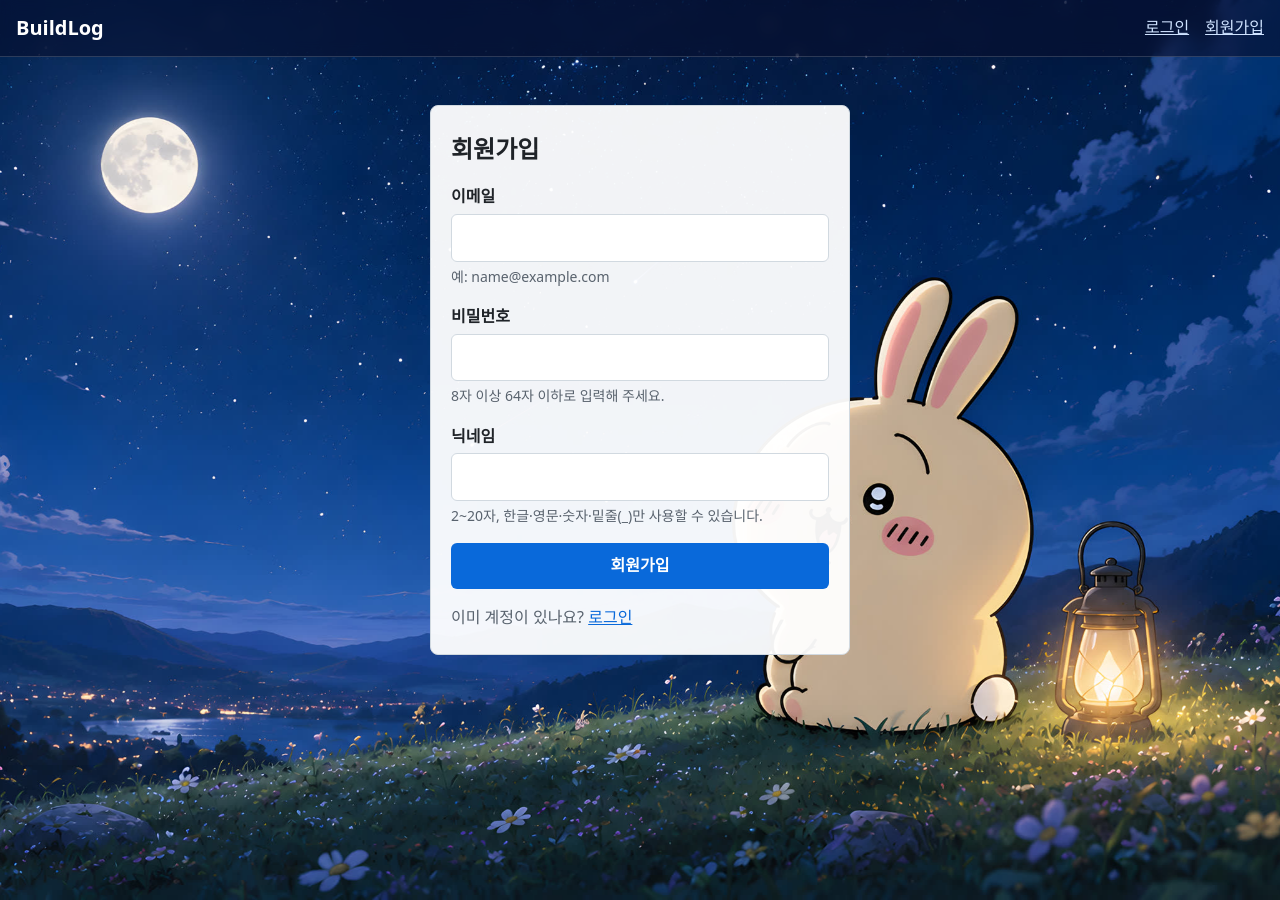
Test: 회원가입 › 비밀번호가 7자면 서버에 보내지 않고 길이 조건을 알려준다
This screenshot has width=1280, height=900.
Type "user@example.com" into the field labelled "이메일". click: point(640, 238)
box: 451,214 -> 829,262
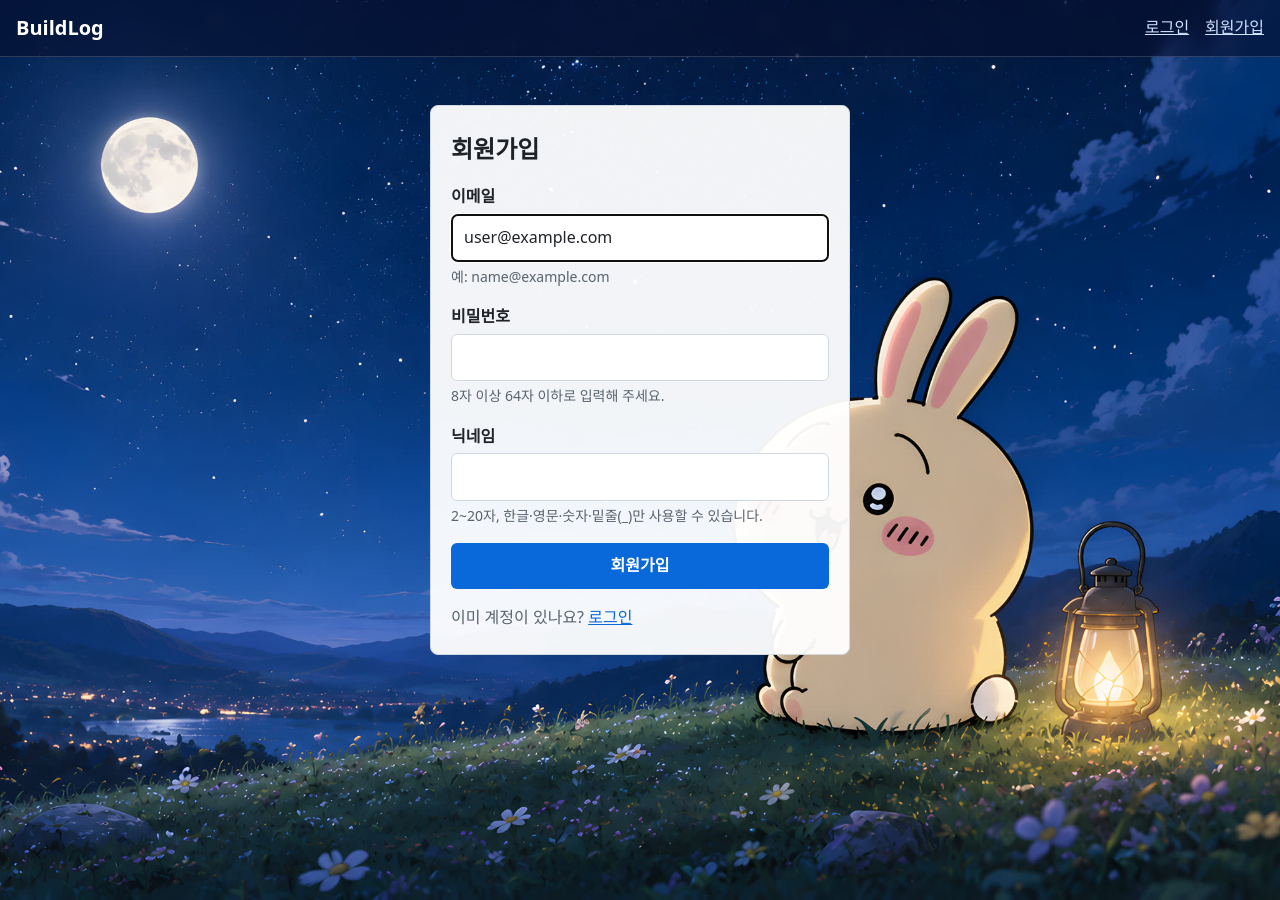
Type "1234567" into the password field labelled "비밀번호". click: point(640, 357)
box: 451,334 -> 829,381
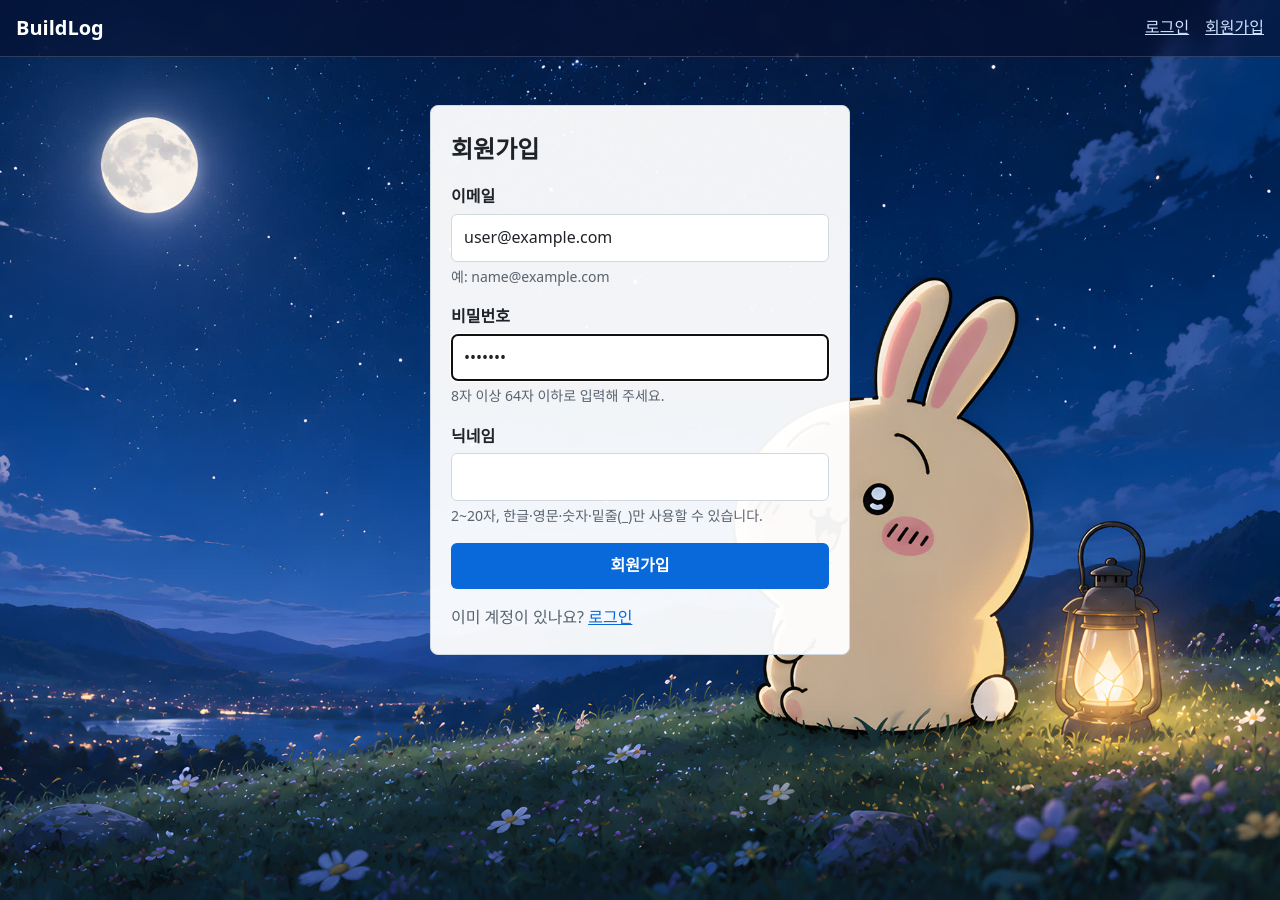
Type "빌드로그" into the field labelled "닉네임". click: point(640, 477)
box: 451,453 -> 829,501
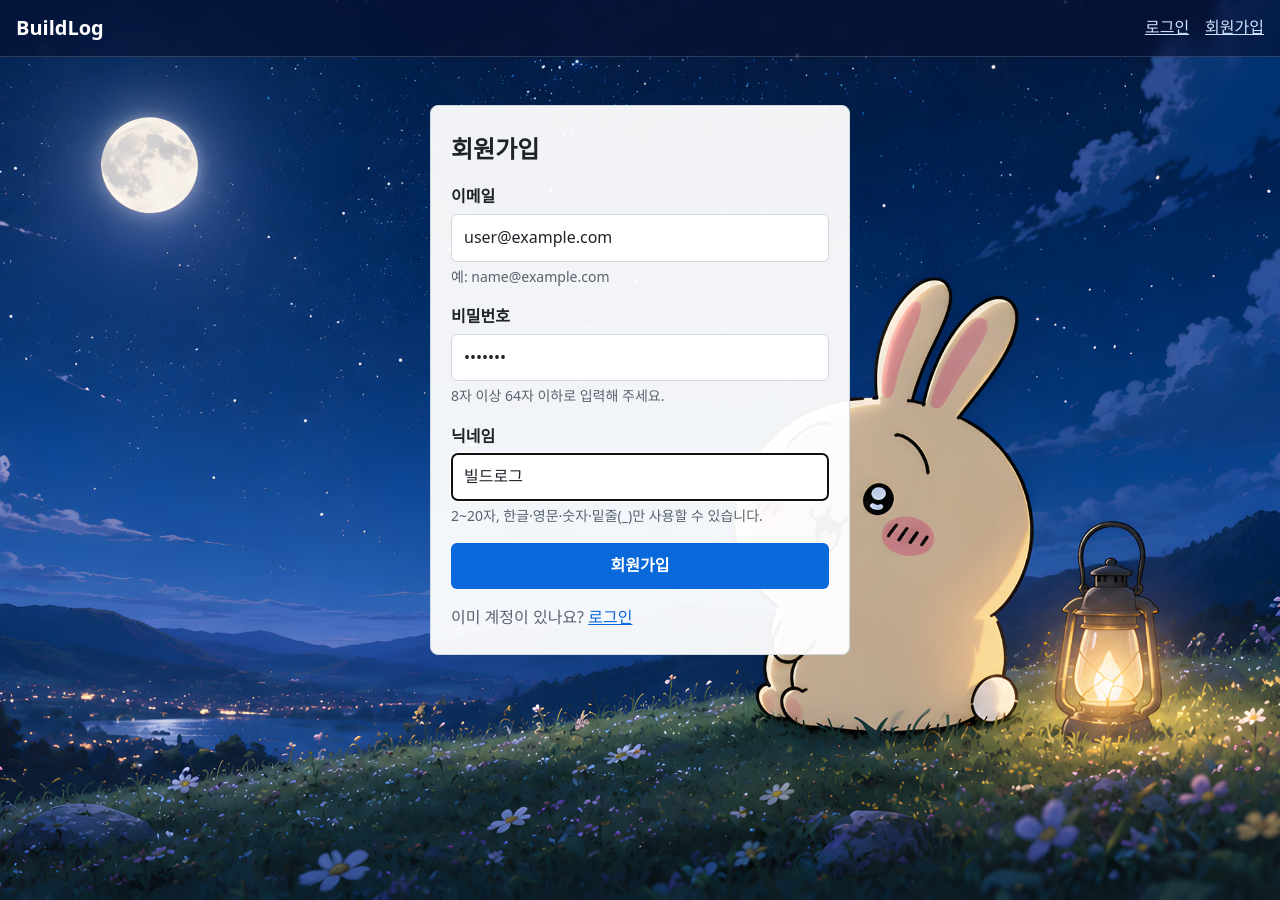
Click the button "회원가입". click: point(640, 566)
box: 451,543 -> 829,589
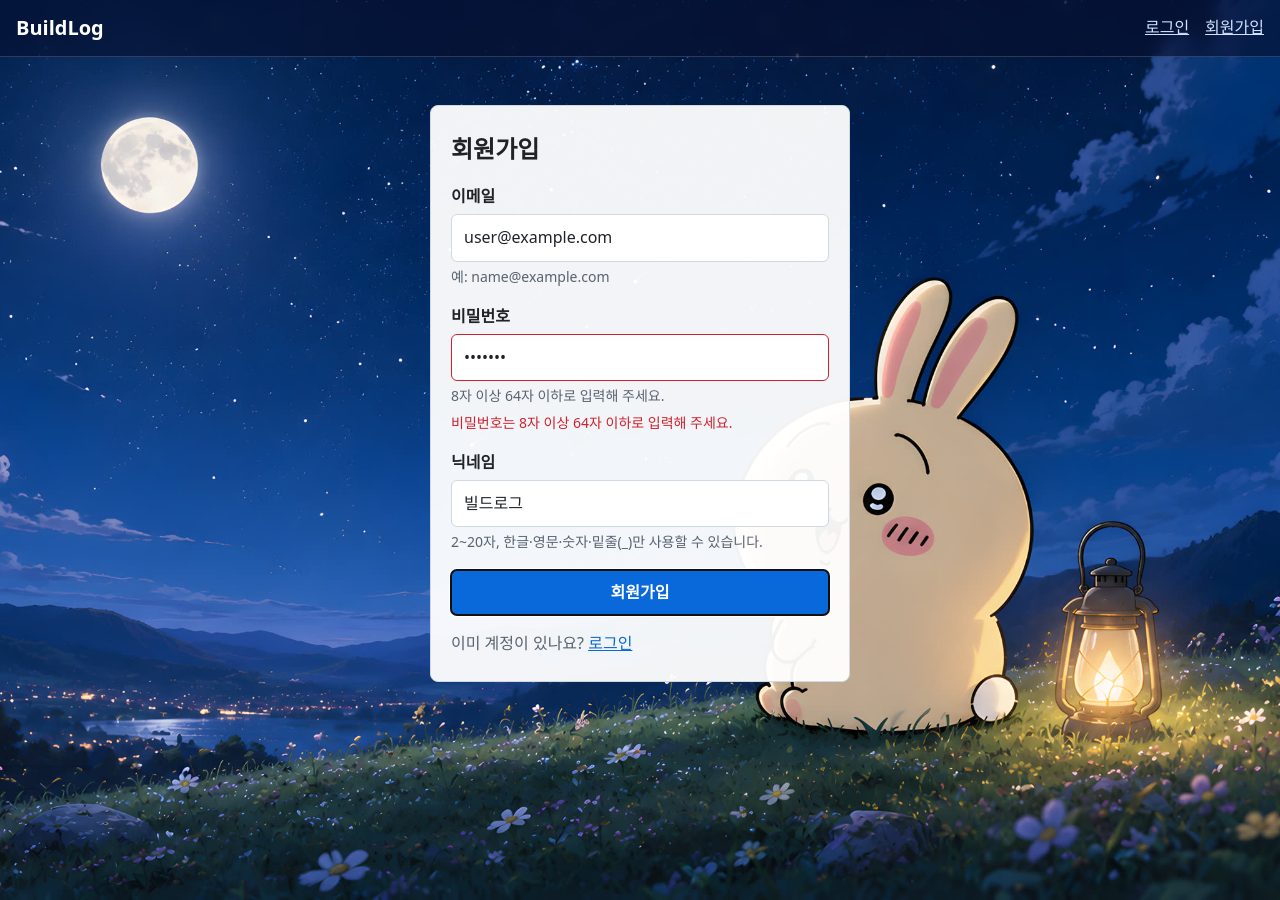
Expected: the text "비밀번호는 8자 이상 64자 이하로 입력해 주세요." is shown, 451,412 -> 732,432
